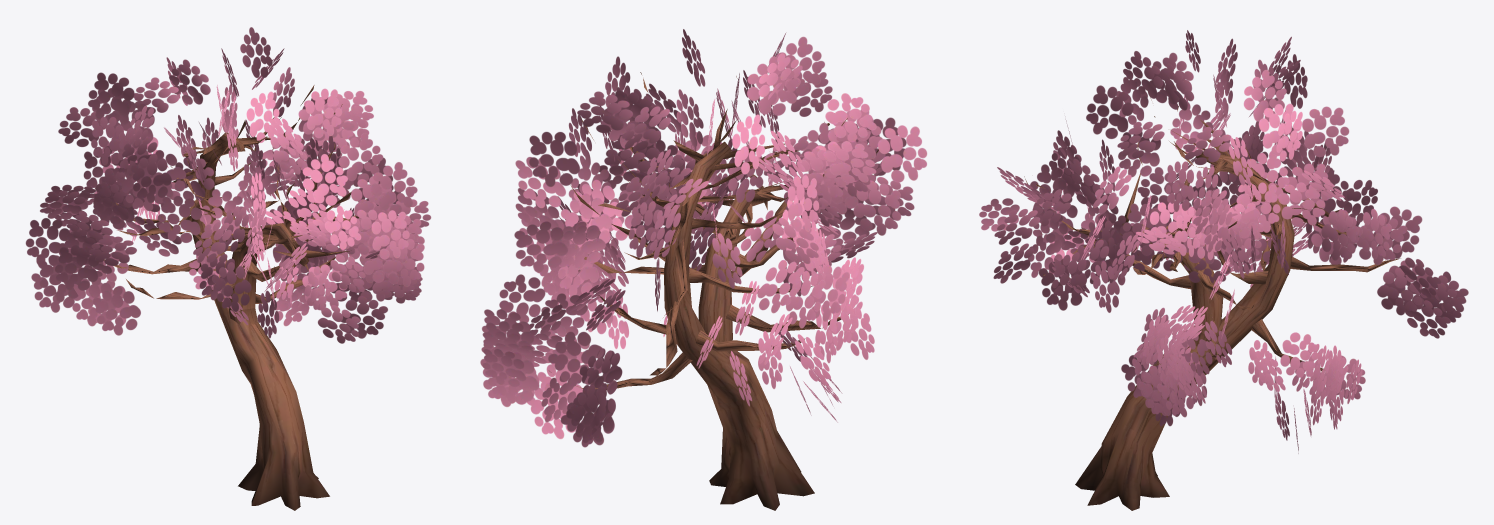
The model's file is tree-wedding-1-young.glb.
The picture shows the model from 3 angles, left to right: view 1: azimuth 30°, elevation 25°; view 2: azimuth 150°, elevation 25°; view 3: azimuth 270°, elevation 25°; orthographic projection. The views are drawn at different scales.
Parts seen in each view (by area): view 1: CherryBlossom_1; view 2: CherryBlossom_1; view 3: CherryBlossom_1.
Boxes of the visible parts, box(x1,y1,x2,y2) form: CherryBlossom_1: box(25, 27, 431, 510); CherryBlossom_1: box(480, 29, 927, 510); CherryBlossom_1: box(979, 30, 1468, 510).
Size of the model in its own units: 2.1 by 2.4 by 2.57.
2 materials, 2 textured.
